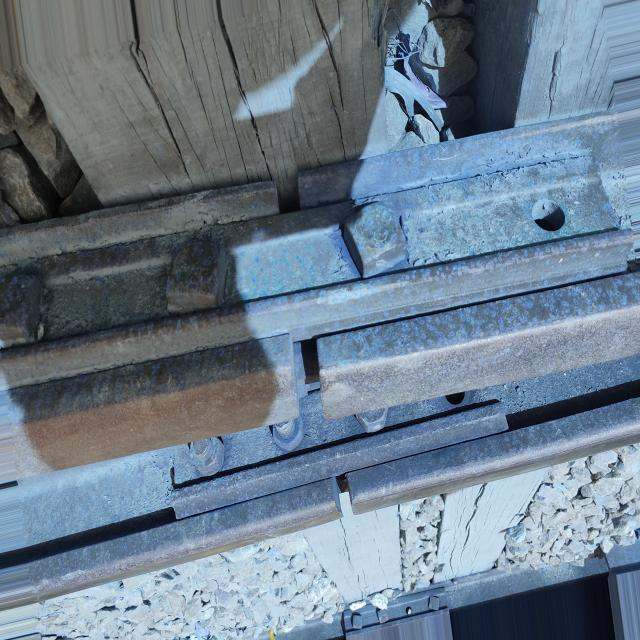Defective Joint: (9, 106, 636, 481), (119, 372, 541, 586)
